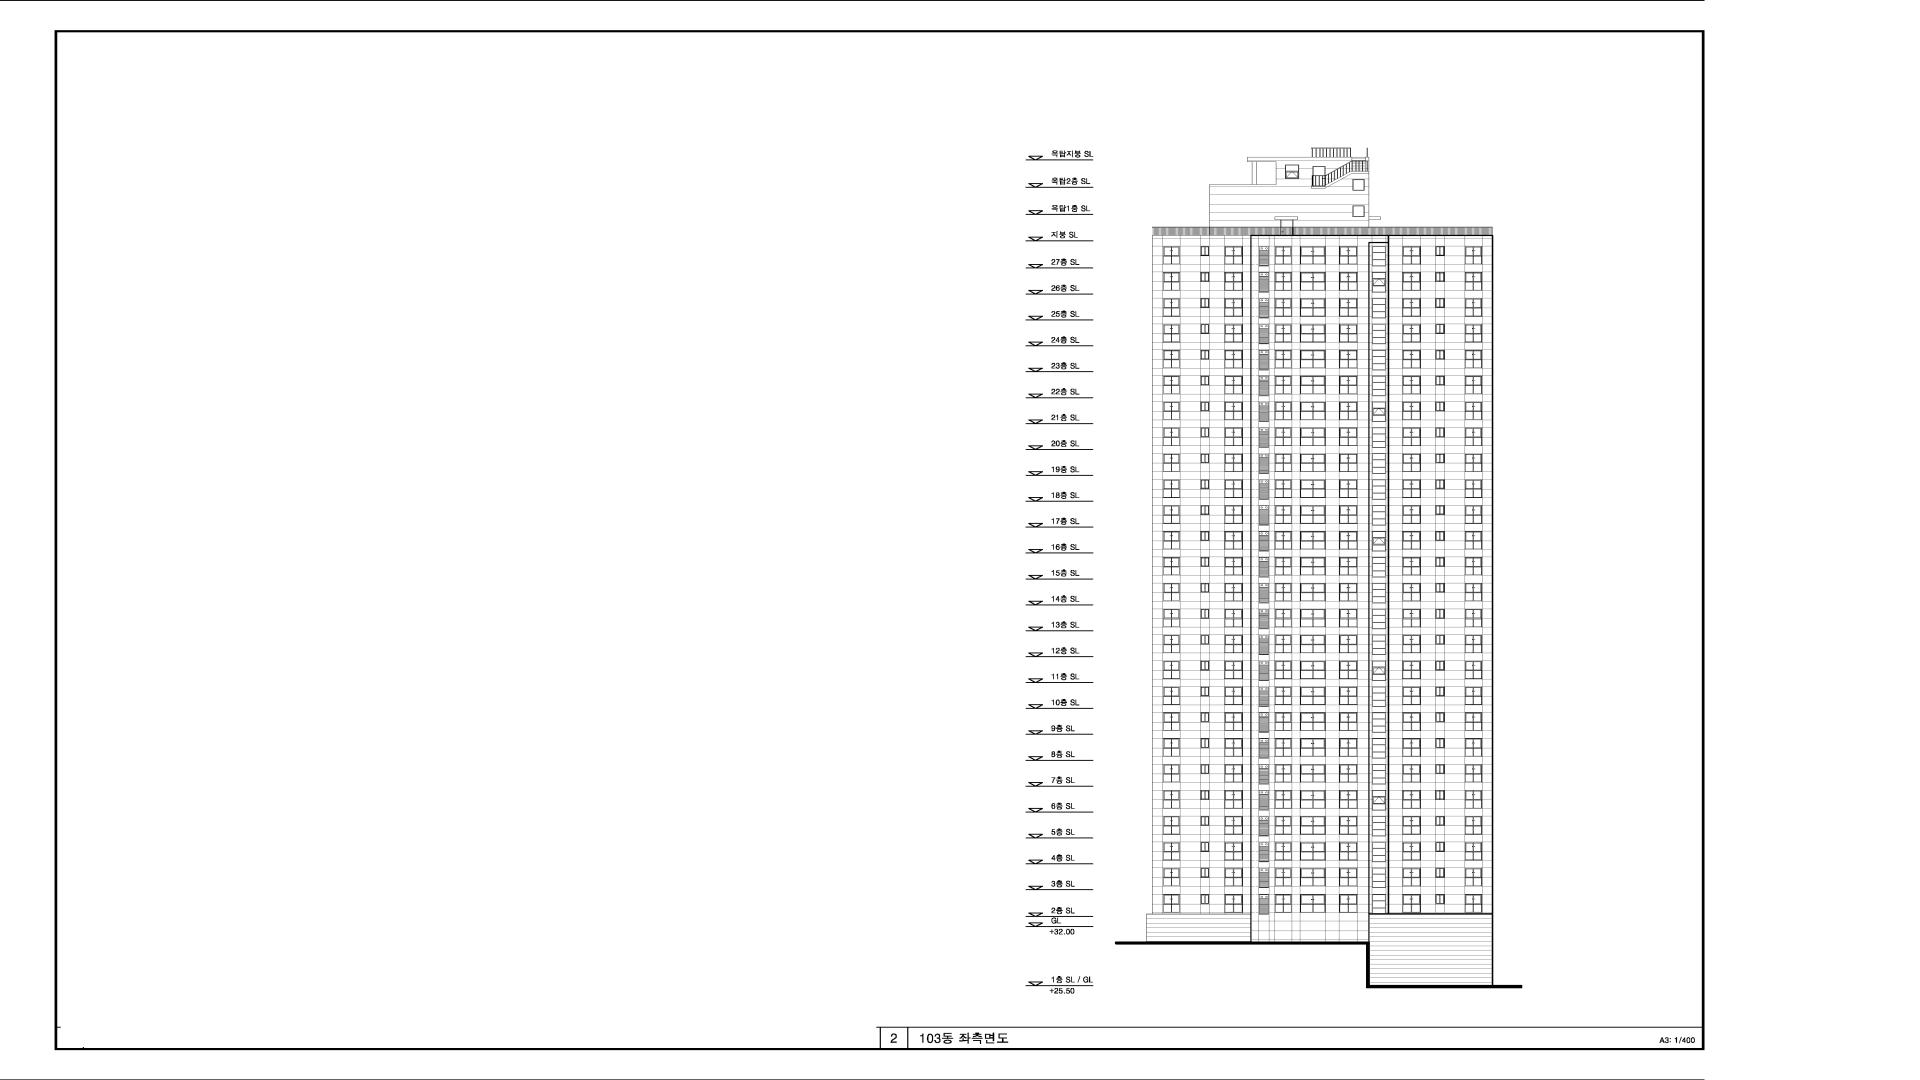door: (1312, 166, 1325, 187), (1280, 219, 1294, 236)
wall: (1146, 157, 1493, 989)
window: (1300, 841, 1325, 861), (1300, 868, 1327, 886), (1300, 894, 1325, 913), (1300, 816, 1325, 835), (1300, 790, 1325, 808), (1300, 765, 1325, 783), (1300, 738, 1325, 757), (1300, 712, 1325, 731), (1300, 687, 1325, 705), (1300, 661, 1325, 679), (1300, 634, 1325, 653), (1300, 609, 1325, 628), (1300, 583, 1325, 601), (1300, 558, 1325, 576), (1300, 531, 1325, 550), (1300, 505, 1325, 524), (1300, 480, 1325, 498), (1300, 454, 1325, 472), (1300, 427, 1325, 446), (1300, 402, 1325, 421), (1300, 376, 1325, 394), (1300, 349, 1325, 368), (1300, 324, 1325, 343), (1300, 298, 1325, 316), (1300, 272, 1325, 290), (1300, 247, 1325, 265), (1338, 868, 1358, 886), (1338, 843, 1358, 861), (1338, 764, 1357, 783), (1338, 738, 1358, 757), (1338, 686, 1357, 705), (1338, 661, 1358, 679), (1338, 583, 1358, 601), (1338, 556, 1357, 576), (1338, 480, 1358, 498), (1338, 454, 1358, 472), (1338, 427, 1358, 446), (1338, 402, 1358, 421), (1338, 349, 1358, 368), (1338, 324, 1358, 343), (1338, 272, 1358, 290), (1402, 298, 1422, 316), (1402, 349, 1420, 369), (1402, 479, 1420, 498), (1402, 505, 1422, 524), (1224, 738, 1244, 757), (1224, 765, 1244, 783), (1224, 816, 1244, 835), (1224, 843, 1244, 861), (1224, 894, 1244, 913), (1274, 479, 1292, 498), (1162, 841, 1180, 861), (1224, 245, 1242, 265), (1224, 323, 1242, 343), (1224, 349, 1244, 368), (1224, 505, 1244, 524), (1224, 583, 1244, 601), (1224, 609, 1244, 628), (1224, 634, 1244, 653), (1402, 634, 1420, 654), (1402, 686, 1420, 705), (1338, 816, 1357, 835), (1338, 790, 1357, 808), (1338, 712, 1357, 731), (1338, 634, 1357, 653), (1338, 609, 1357, 628), (1338, 531, 1357, 550), (1338, 505, 1357, 524), (1338, 376, 1357, 394), (1338, 298, 1357, 316), (1338, 247, 1357, 265), (1402, 247, 1420, 265), (1402, 272, 1420, 290), (1402, 324, 1420, 343), (1402, 376, 1420, 394), (1402, 402, 1420, 421), (1402, 427, 1420, 446), (1402, 454, 1420, 472), (1224, 790, 1242, 808), (1224, 868, 1242, 886), (1274, 247, 1292, 265), (1274, 272, 1292, 290), (1274, 298, 1292, 316), (1274, 324, 1292, 343), (1274, 349, 1292, 368), (1274, 376, 1292, 394), (1274, 402, 1292, 421), (1274, 427, 1292, 446), (1274, 454, 1292, 472), (1274, 505, 1292, 524), (1274, 531, 1292, 550), (1274, 556, 1292, 575), (1274, 583, 1292, 601), (1274, 609, 1292, 628), (1274, 634, 1292, 653), (1274, 661, 1292, 679), (1274, 687, 1292, 705), (1274, 712, 1292, 731), (1274, 738, 1292, 757), (1274, 790, 1292, 808), (1274, 843, 1292, 861), (1274, 868, 1292, 886), (1274, 894, 1292, 913), (1338, 894, 1357, 913), (1162, 738, 1180, 757), (1162, 349, 1180, 368), (1162, 298, 1180, 316), (1224, 272, 1242, 290), (1224, 298, 1242, 316), (1224, 376, 1242, 394), (1224, 402, 1242, 421), (1224, 427, 1242, 446), (1224, 454, 1242, 472), (1224, 479, 1242, 497), (1224, 531, 1242, 550), (1224, 556, 1242, 575), (1224, 661, 1242, 679), (1224, 687, 1242, 705), (1224, 712, 1242, 731), (1402, 531, 1420, 550), (1402, 556, 1420, 575), (1402, 583, 1420, 601), (1402, 609, 1420, 628), (1402, 661, 1420, 679), (1402, 712, 1420, 731), (1402, 738, 1420, 757), (1402, 765, 1420, 783), (1402, 790, 1420, 808), (1402, 816, 1420, 835), (1402, 841, 1420, 860), (1402, 868, 1420, 886), (1402, 894, 1420, 913), (1464, 505, 1482, 524), (1163, 634, 1180, 654), (1163, 479, 1180, 498), (1274, 765, 1292, 782), (1275, 816, 1292, 835), (1465, 376, 1482, 394), (1465, 349, 1482, 368), (1465, 324, 1482, 343), (1465, 298, 1482, 316), (1465, 272, 1482, 290), (1465, 247, 1482, 265), (1163, 894, 1180, 913), (1163, 868, 1180, 886), (1163, 816, 1180, 835), (1163, 790, 1180, 808), (1163, 765, 1180, 783), (1163, 712, 1180, 731), (1163, 687, 1180, 705), (1163, 661, 1180, 679), (1163, 609, 1180, 628), (1163, 583, 1180, 601), (1163, 556, 1180, 575), (1163, 531, 1180, 550), (1163, 505, 1180, 524), (1163, 454, 1180, 472), (1163, 427, 1180, 446), (1163, 401, 1180, 419), (1163, 376, 1180, 394), (1163, 324, 1180, 343), (1163, 272, 1180, 290), (1163, 247, 1180, 265), (1465, 894, 1482, 913), (1465, 868, 1482, 886), (1465, 843, 1482, 861), (1465, 816, 1482, 835), (1465, 790, 1482, 808), (1465, 765, 1482, 783), (1465, 738, 1482, 757), (1465, 712, 1482, 731), (1465, 687, 1482, 705), (1465, 661, 1482, 679), (1465, 634, 1482, 653), (1465, 609, 1482, 628), (1465, 583, 1482, 601), (1465, 556, 1482, 575), (1465, 531, 1482, 550), (1465, 480, 1482, 498), (1465, 454, 1482, 472), (1465, 427, 1482, 446), (1465, 402, 1482, 421), (1371, 245, 1386, 266), (1371, 272, 1386, 293), (1371, 349, 1386, 371), (1371, 427, 1386, 448), (1371, 556, 1386, 578), (1371, 634, 1386, 655), (1371, 712, 1386, 733), (1371, 790, 1386, 811), (1371, 841, 1386, 862), (1371, 298, 1386, 318), (1371, 324, 1386, 344), (1371, 376, 1386, 396), (1371, 402, 1386, 422), (1371, 454, 1386, 473), (1371, 480, 1386, 500), (1371, 505, 1386, 525), (1371, 531, 1386, 551), (1371, 583, 1386, 603), (1371, 609, 1386, 629), (1371, 661, 1386, 680), (1371, 687, 1386, 707), (1371, 738, 1386, 758), (1371, 765, 1386, 785), (1371, 816, 1386, 836), (1371, 868, 1386, 887), (1371, 894, 1386, 914), (1258, 272, 1269, 293), (1258, 349, 1269, 371), (1258, 556, 1269, 578), (1258, 634, 1269, 655), (1258, 712, 1269, 733), (1258, 790, 1269, 811), (1258, 841, 1269, 862), (1258, 894, 1269, 915), (1284, 165, 1299, 179), (1259, 247, 1270, 266), (1258, 298, 1269, 318), (1258, 324, 1269, 344), (1258, 376, 1269, 396), (1258, 402, 1269, 422), (1258, 427, 1269, 447), (1258, 454, 1269, 473), (1258, 480, 1269, 500), (1258, 505, 1269, 525), (1258, 531, 1269, 551), (1258, 583, 1269, 603), (1258, 609, 1269, 629), (1258, 661, 1269, 680), (1258, 687, 1269, 707), (1258, 738, 1269, 758), (1258, 765, 1269, 785), (1258, 816, 1269, 836), (1258, 868, 1269, 887), (1352, 206, 1365, 218), (1353, 179, 1365, 191), (1435, 349, 1445, 360), (1435, 298, 1445, 309), (1435, 272, 1445, 282), (1435, 894, 1445, 905), (1435, 634, 1445, 645), (1435, 583, 1445, 593), (1435, 427, 1445, 438), (1435, 376, 1445, 385), (1435, 324, 1445, 334), (1435, 247, 1445, 256), (1200, 272, 1209, 282), (1200, 298, 1209, 309), (1200, 349, 1209, 360), (1200, 427, 1209, 438), (1200, 479, 1209, 489), (1200, 505, 1209, 516), (1200, 556, 1209, 567), (1200, 583, 1209, 593), (1200, 634, 1209, 645), (1200, 661, 1209, 671), (1200, 712, 1209, 723), (1200, 790, 1209, 800), (1200, 841, 1209, 852), (1200, 868, 1209, 878), (1200, 894, 1209, 905), (1435, 868, 1444, 878), (1435, 841, 1444, 852), (1435, 790, 1444, 800), (1435, 712, 1444, 723), (1435, 661, 1445, 670), (1435, 609, 1445, 618), (1435, 556, 1444, 567), (1435, 505, 1444, 516), (1435, 454, 1445, 463), (1435, 402, 1445, 411), (1200, 247, 1209, 256), (1200, 324, 1209, 334), (1200, 376, 1209, 385), (1200, 402, 1209, 411), (1200, 454, 1209, 463), (1200, 531, 1209, 541), (1200, 609, 1209, 618), (1200, 687, 1209, 696), (1200, 738, 1209, 748), (1200, 765, 1209, 774), (1200, 816, 1209, 825), (1435, 816, 1444, 825), (1435, 765, 1444, 774), (1435, 738, 1444, 748), (1435, 687, 1444, 696), (1435, 531, 1444, 541), (1435, 480, 1444, 489)
